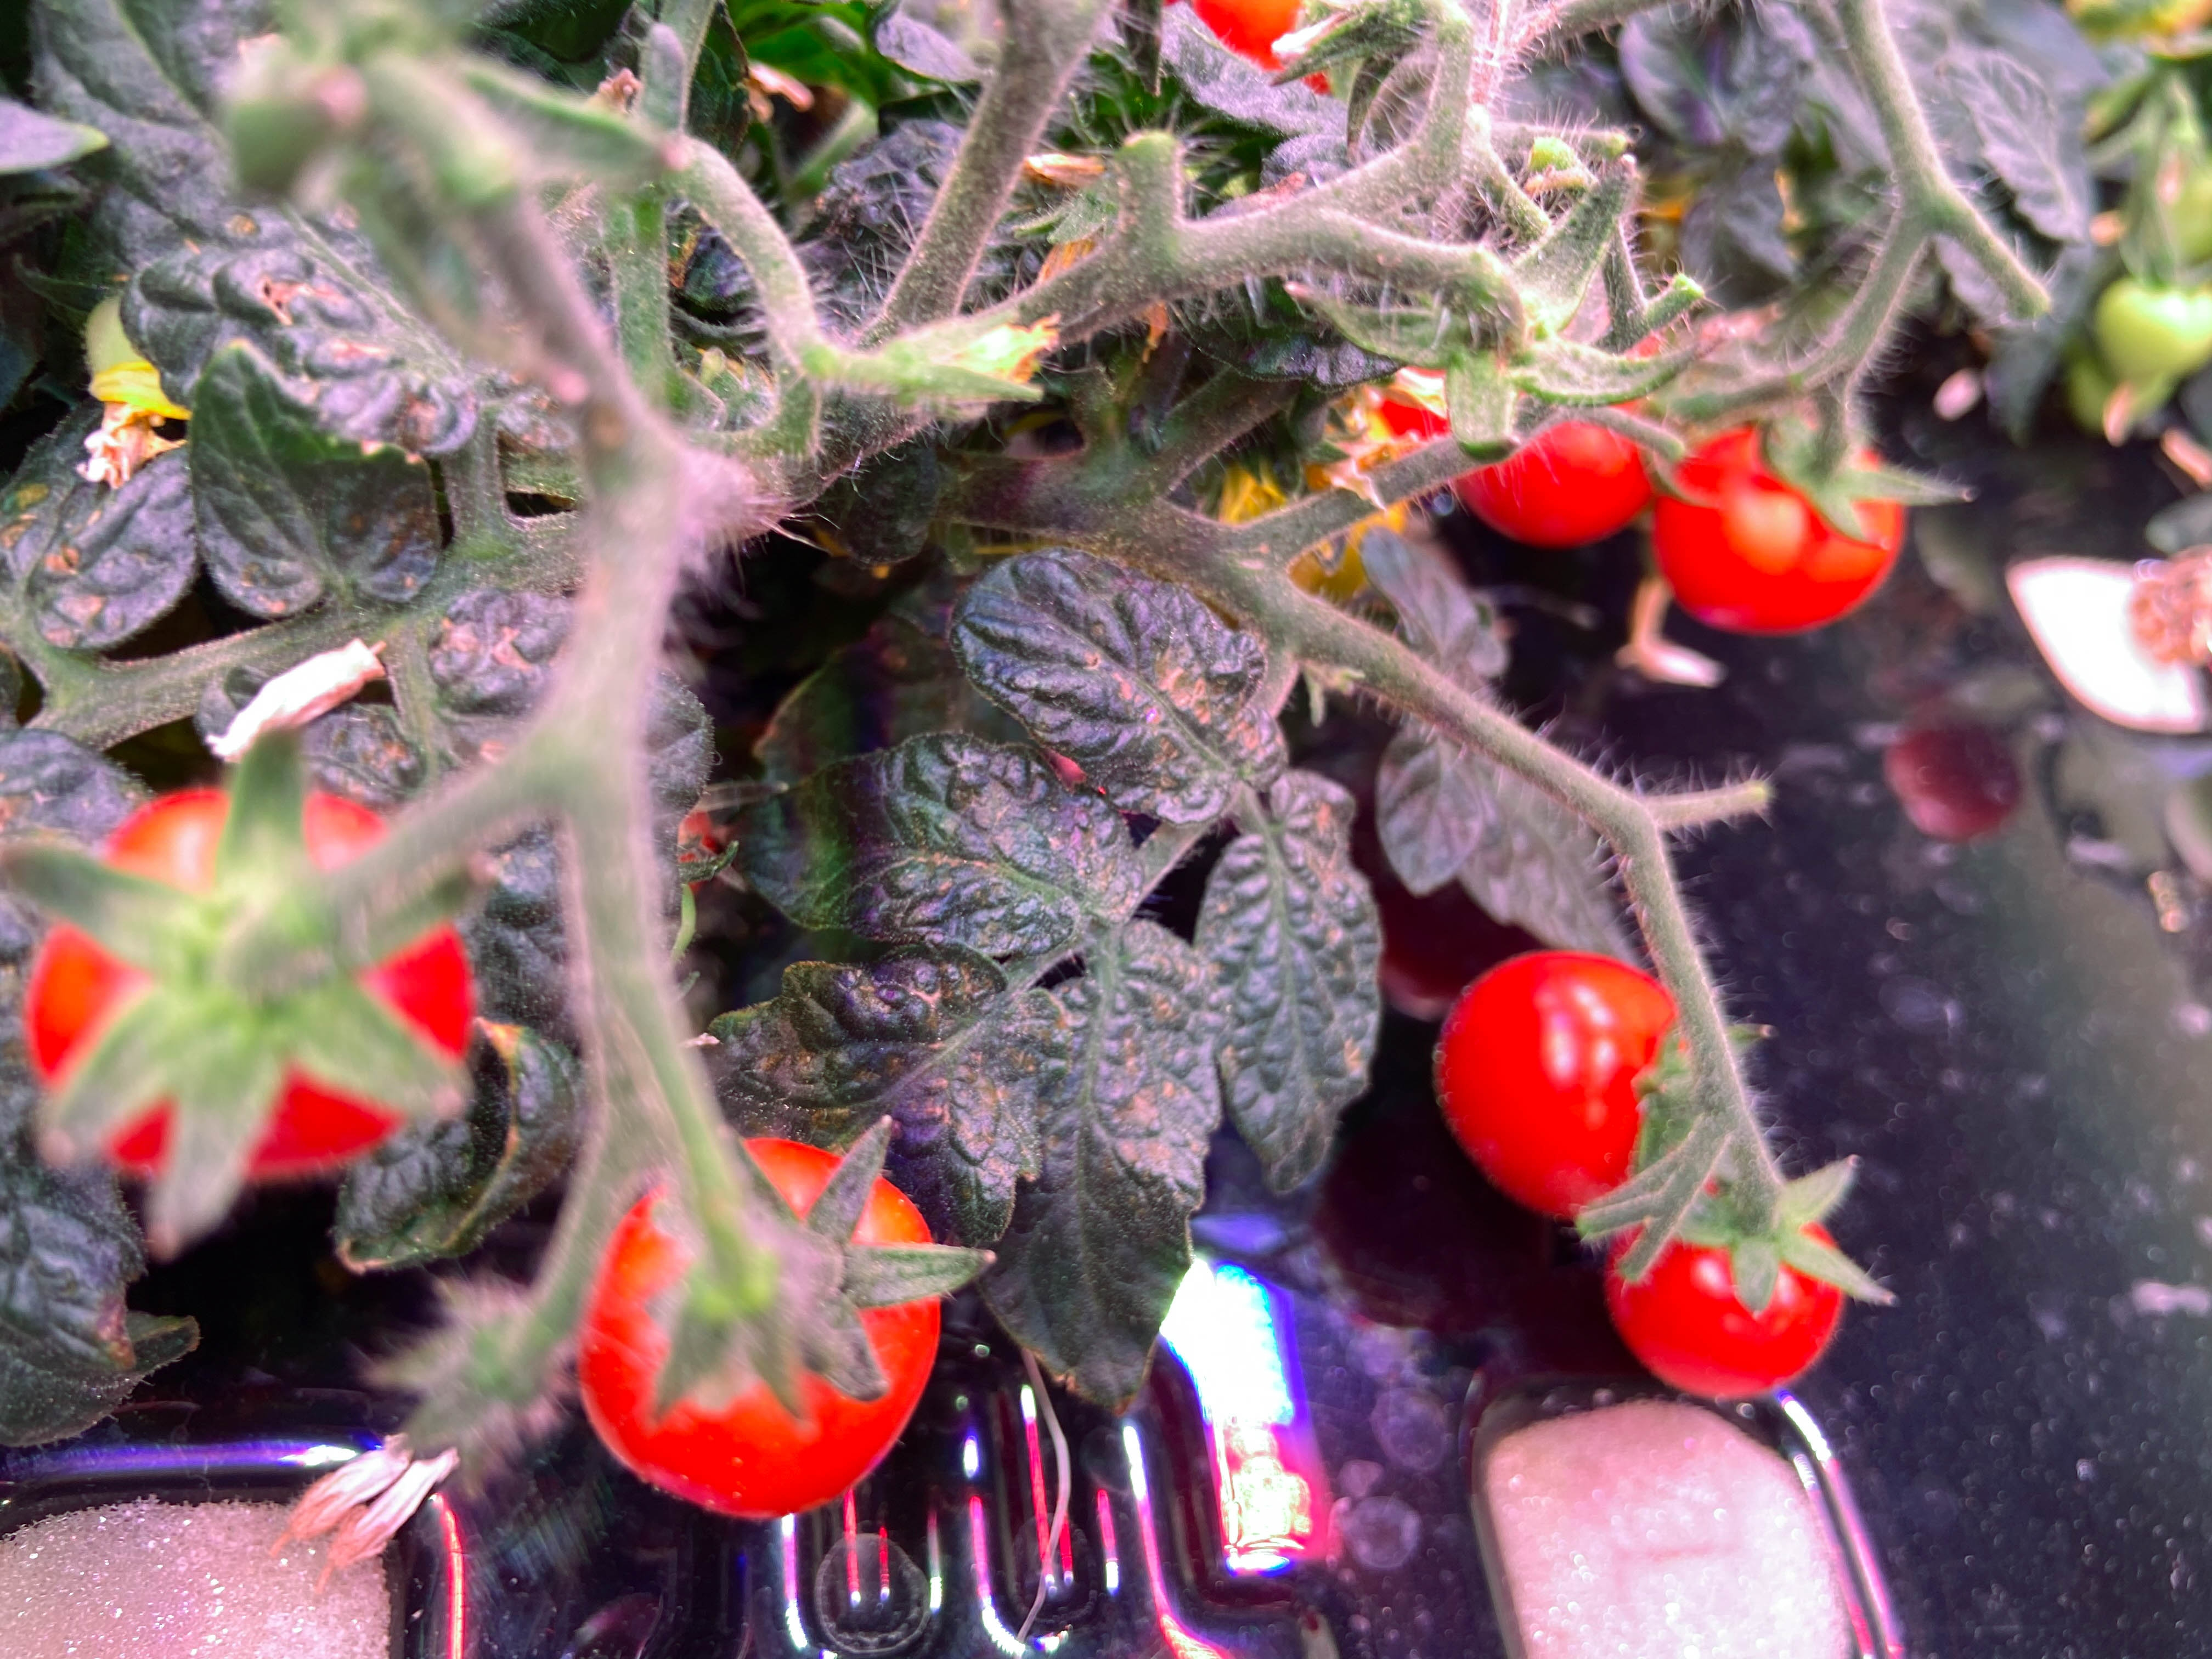green: (2092, 270, 2210, 389), (2111, 125, 2212, 261)
red: (21, 779, 482, 1194), (578, 1134, 946, 1518), (1433, 936, 1712, 1218), (1414, 308, 1669, 542), (1651, 406, 1900, 634), (1606, 1168, 1850, 1394), (637, 795, 766, 904), (1184, 0, 1339, 70)
